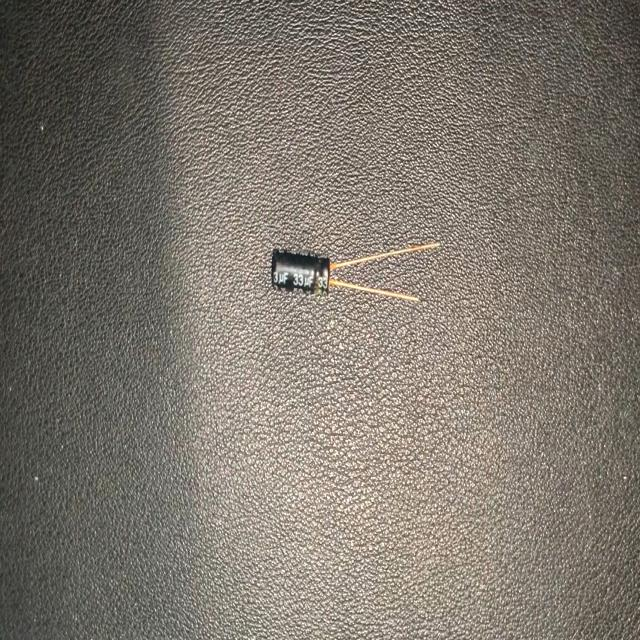capacitor: (266, 236, 444, 308)
